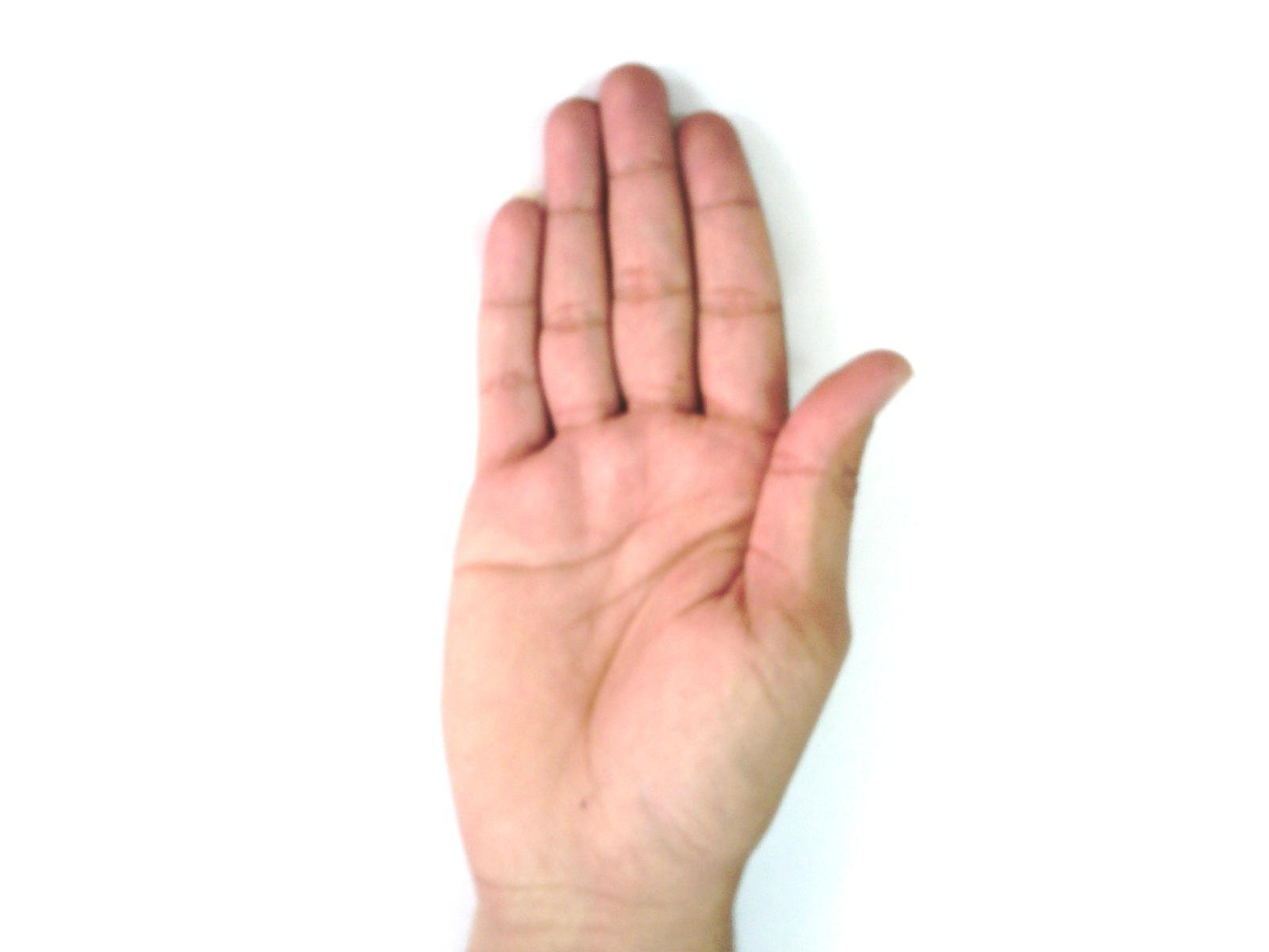open_palm: (437, 63, 918, 904)
